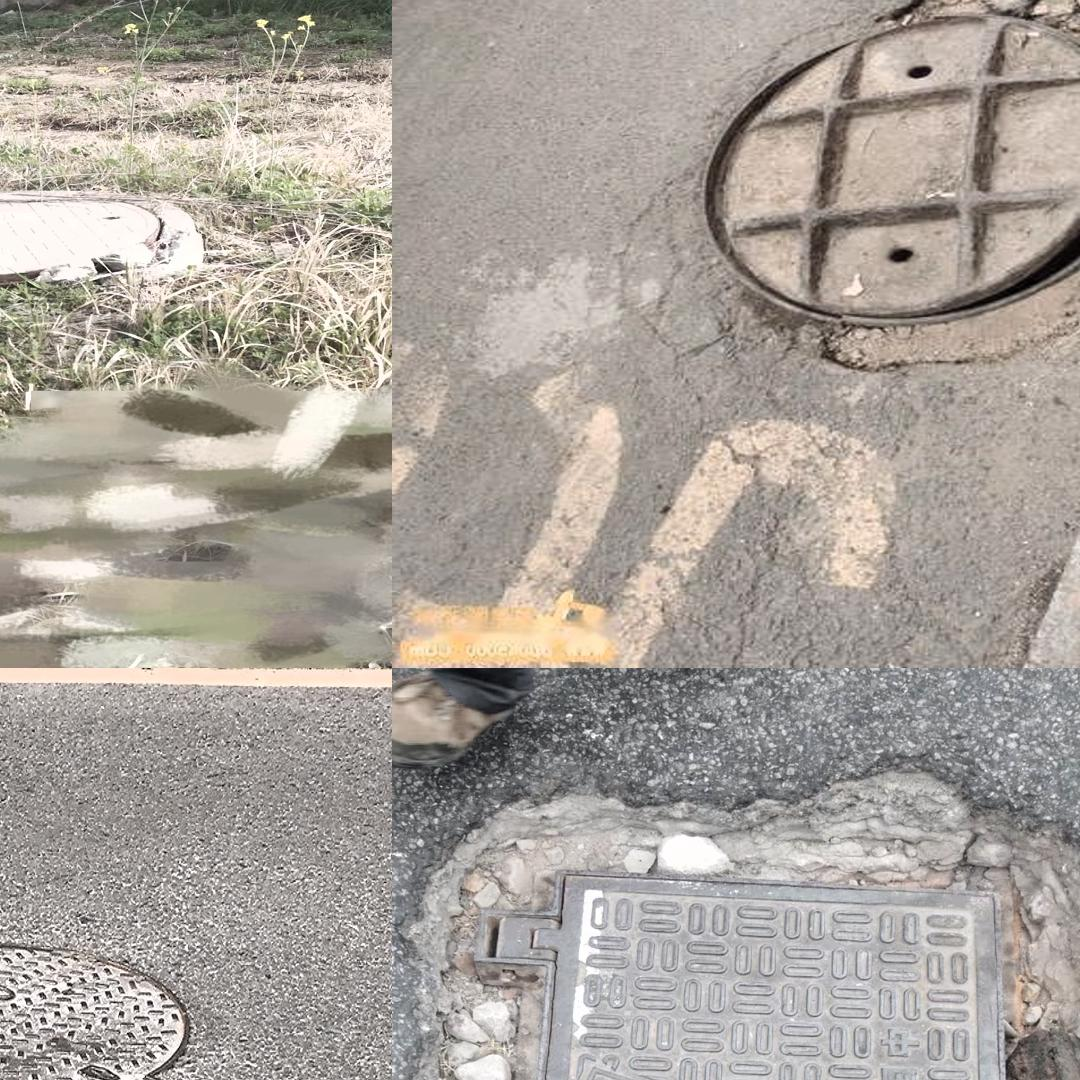circle: (657, 0, 1080, 421), (415, 824, 1080, 1080), (0, 932, 198, 1080), (0, 183, 198, 304)
